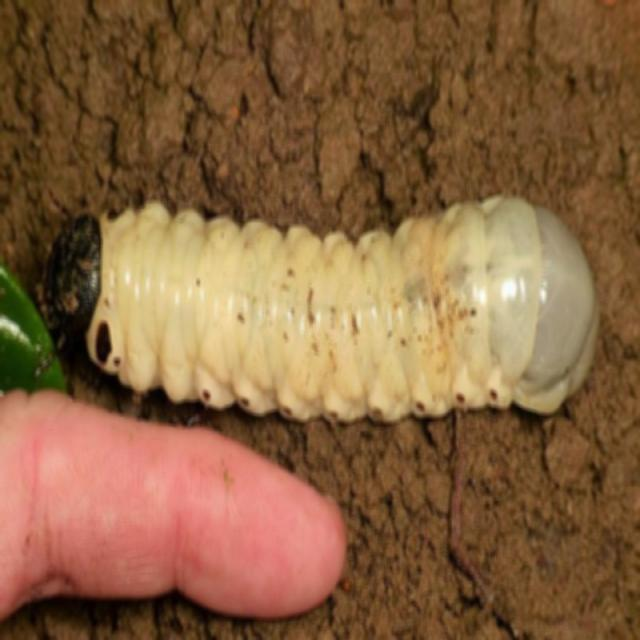grub: (47, 187, 602, 422)
